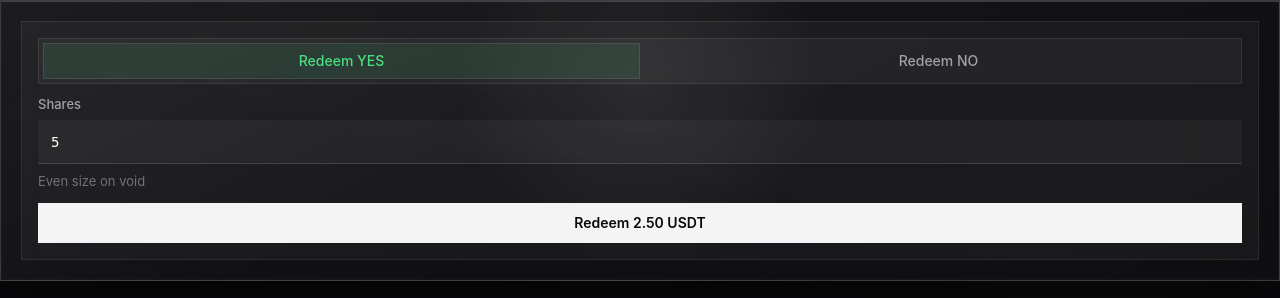
Test: SettleDesk 作废半价退款（VoidClaim） › 输入 0 或切到无余额的一侧时重置金额并禁用按钮
Replace the text in the field with "0": (640, 142) [38,120,1242,164]
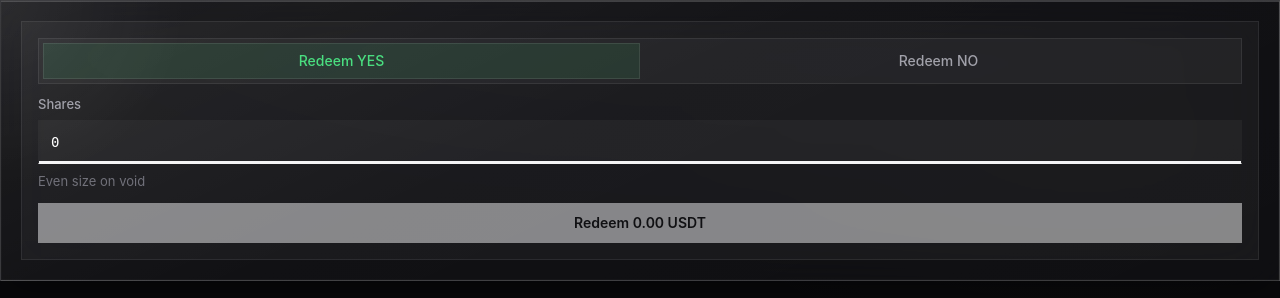
Expected: the button "Redeem 0.00 USDT" is disabled, [38,203,1242,243]
Replace the text in the field with "2": (640, 142) [38,120,1242,164]
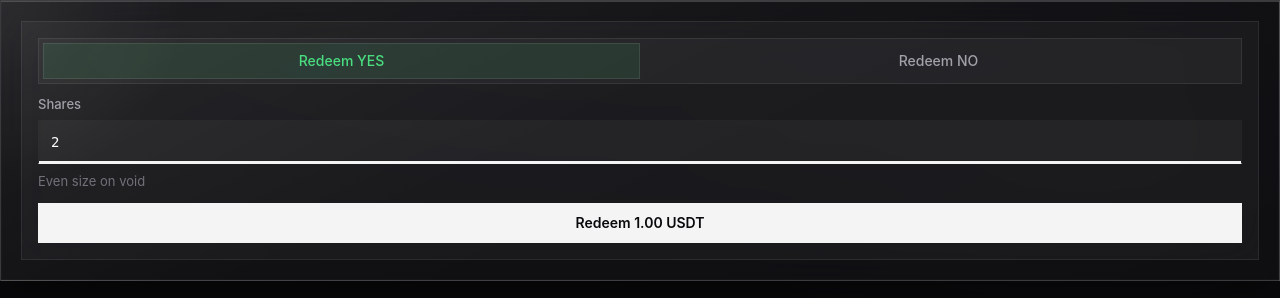
Click the button "Redeem NO": (938, 61) [640,43,1237,79]
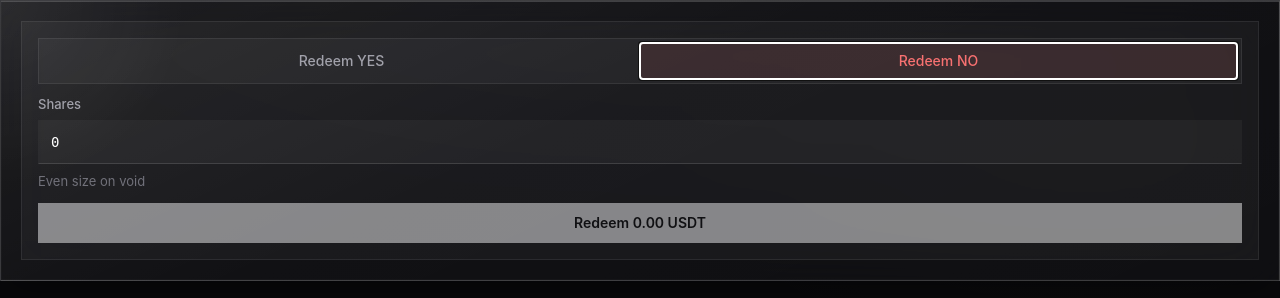
Expected: the button "Redeem 0.00 USDT" is disabled, [38,203,1242,243]
